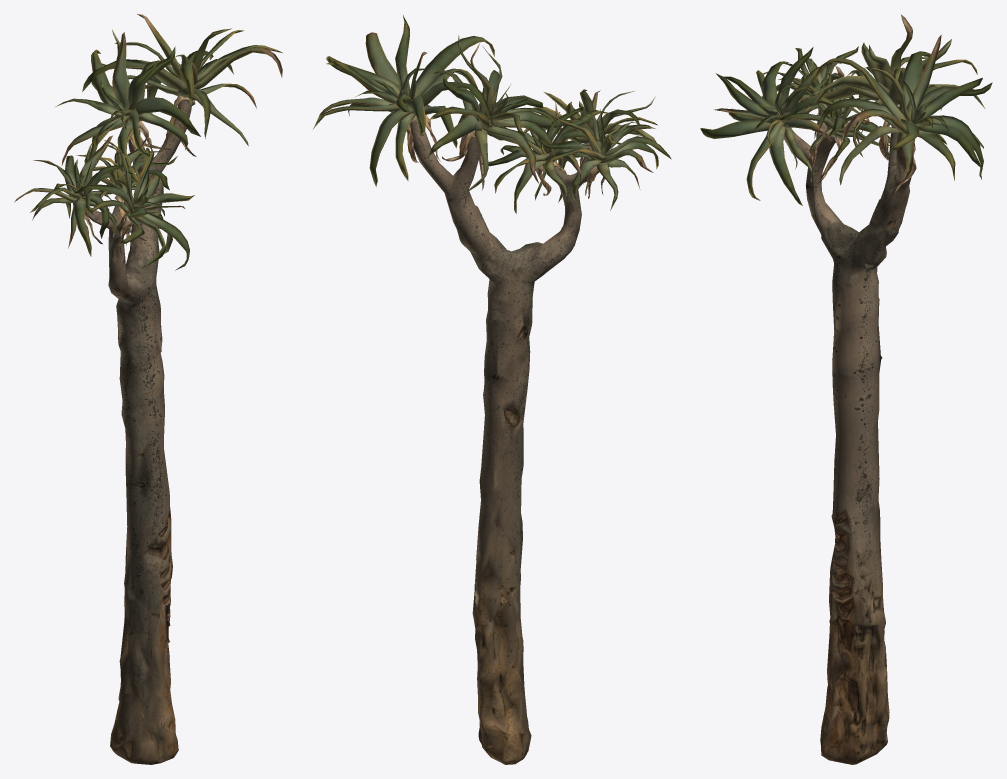
Rendered from assets__ph__quiver_tree_01.glb.
3 renders of one model, left to right at view 1: azimuth 30°, elevation 25°; view 2: azimuth 150°, elevation 25°; view 3: azimuth 270°, elevation 25°, orthographic. The views are drawn at different scales.
Visible parts, largest first — view 1: quiver_tree_01; view 2: quiver_tree_01; view 3: quiver_tree_01.
Boxes of the visible parts, bbox=[...] form: quiver_tree_01: bbox=[14, 14, 282, 764]; quiver_tree_01: bbox=[313, 15, 671, 764]; quiver_tree_01: bbox=[700, 14, 992, 764].
Bounding box in the file's own units: 1.18 × 2.71 × 0.9655.
2 materials, 2 textured.
